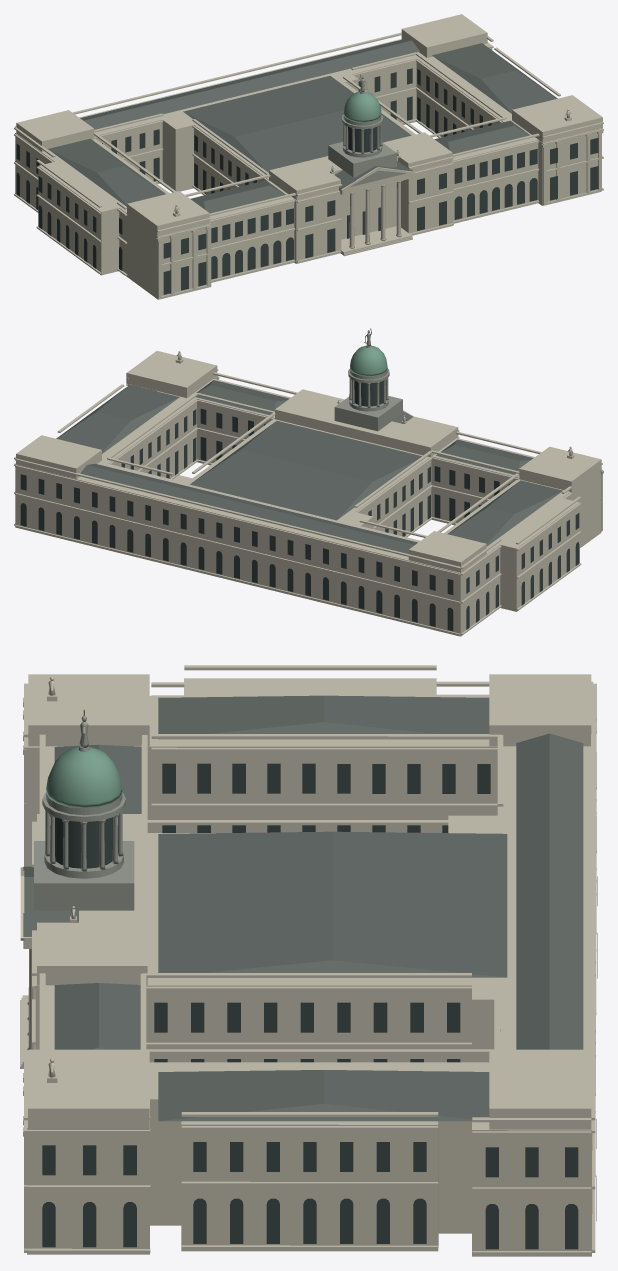
File: custom-house-dublin-far.glb
3 renders of one model, top to bottom at view 1: azimuth 30°, elevation 25°; view 2: azimuth 150°, elevation 25°; view 3: azimuth 270°, elevation 25°, orthographic. The views are drawn at different scales.
Parts seen in each view (by area): view 1: custom-house-dublin-0-stone, custom-house-dublin-0-roof, custom-house-dublin-0-glass, custom-house-dublin-0-drum, custom-house-dublin-0-copper; view 2: custom-house-dublin-0-stone, custom-house-dublin-0-roof, custom-house-dublin-0-glass, custom-house-dublin-0-drum, custom-house-dublin-0-copper; view 3: custom-house-dublin-0-stone, custom-house-dublin-0-roof, custom-house-dublin-0-glass, custom-house-dublin-0-drum, custom-house-dublin-0-copper.
Part boxes in pixels (x1,y1,x2,y2): custom-house-dublin-0-stone: (14,14,603,299); custom-house-dublin-0-roof: (48,39,557,213); custom-house-dublin-0-glass: (16,68,598,294); custom-house-dublin-0-drum: (328,74,405,186); custom-house-dublin-0-copper: (343,91,381,122); custom-house-dublin-0-stone: (14,351,603,636); custom-house-dublin-0-roof: (56,380,562,553); custom-house-dublin-0-glass: (20,380,579,630); custom-house-dublin-0-drum: (334,328,402,431); custom-house-dublin-0-copper: (350,345,387,376); custom-house-dublin-0-stone: (20,665,596,1256); custom-house-dublin-0-roof: (23,695,583,1121); custom-house-dublin-0-glass: (42,763,597,1249); custom-house-dublin-0-drum: (34,709,134,910); custom-house-dublin-0-copper: (46,747,122,808).
Bounding box in the file's own units: 121 × 40 × 64.66.
